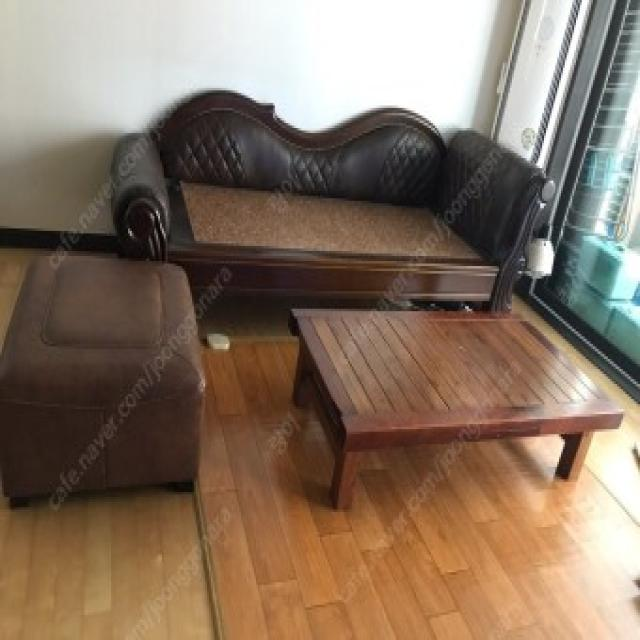Sofa: (106, 90, 542, 304)
Table: (288, 303, 622, 516)
